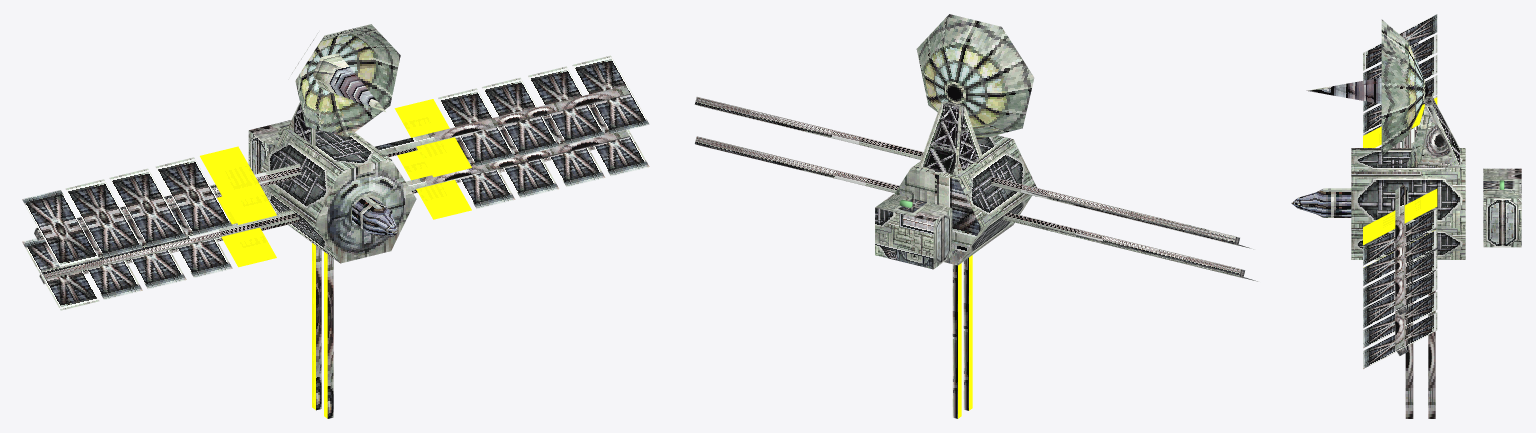
File: tlsat_cmp.gltf
3 renders of one model, left to right at view 1: azimuth 30°, elevation 25°; view 2: azimuth 150°, elevation 25°; view 3: azimuth 270°, elevation 25°, orthographic. The views are drawn at different scales.
Visible parts, largest first — view 1: turret, radar; view 2: turret, radar; view 3: turret, radar.
Boxes of the visible parts, x1,y1,x2,y2 form: turret: (22,55,649,418); radar: (291,24,400,137); turret: (694,97,1258,418); radar: (916,14,1034,139); turret: (1291,14,1521,418); radar: (1306,19,1428,155).
Size of the model in its own units: 18.83 by 12.36 by 6.65.
7 materials, 6 textured.
